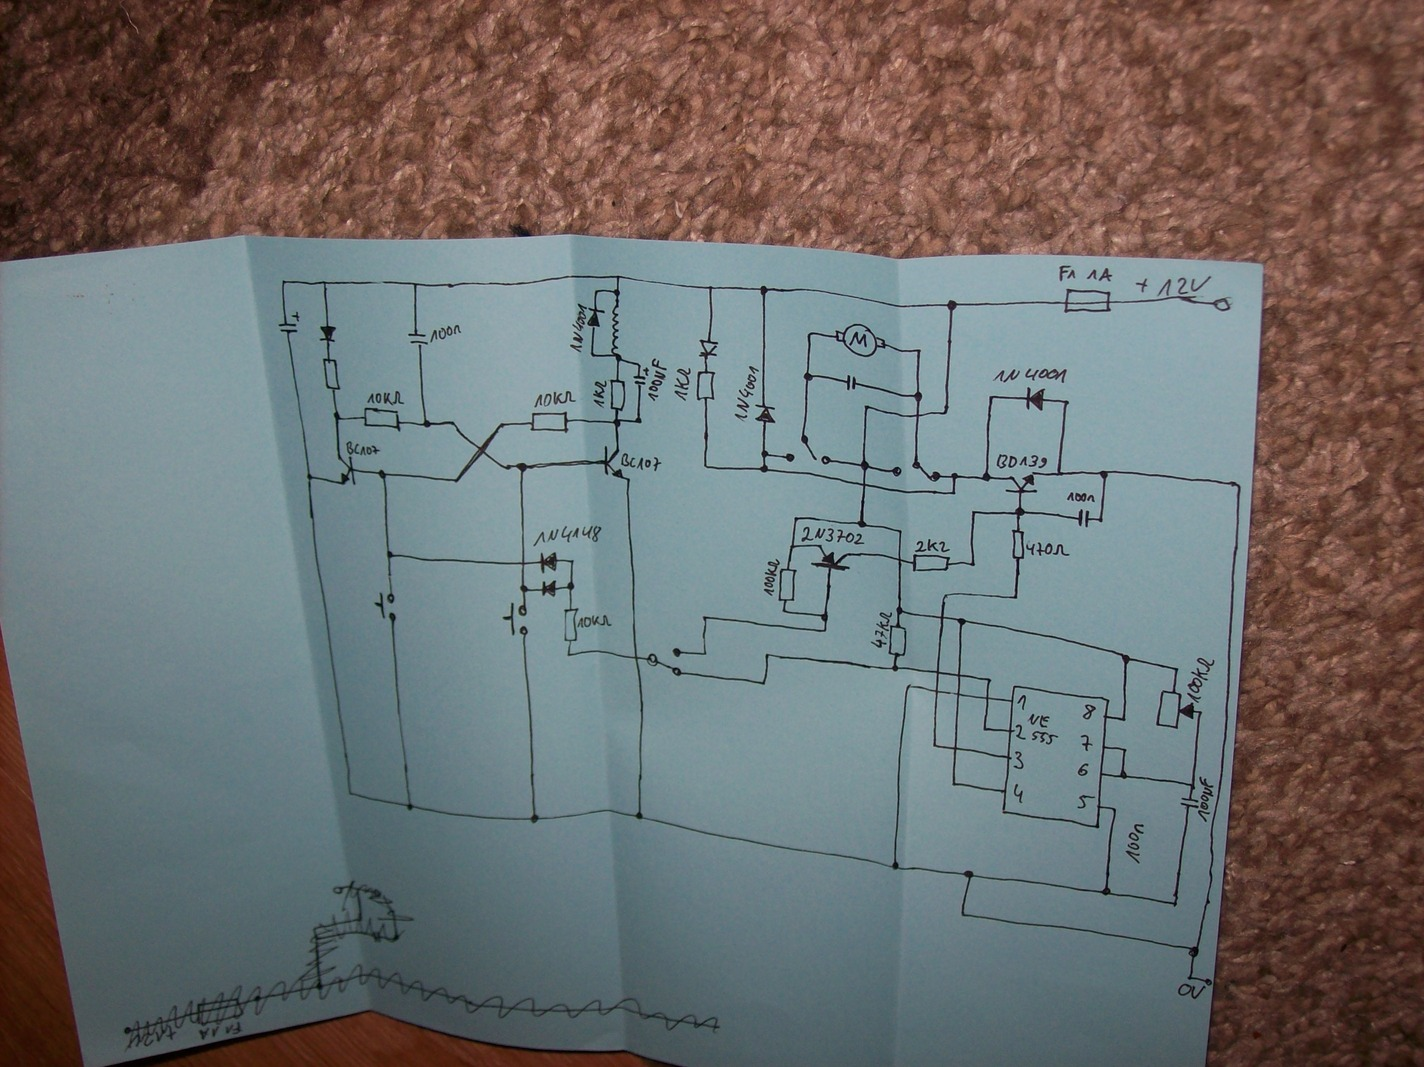capacitor.polarized: (277, 310, 303, 334), (632, 367, 650, 386)
capacitor.unpolarized: (406, 330, 429, 347), (1077, 507, 1091, 529), (1179, 795, 1199, 810), (845, 373, 858, 392)
crossover: (474, 442, 491, 457), (950, 742, 962, 755), (931, 685, 943, 697), (912, 410, 925, 421), (953, 688, 965, 700), (936, 611, 948, 622), (894, 554, 906, 565), (932, 666, 943, 677), (981, 693, 993, 704), (953, 670, 965, 680), (518, 559, 528, 568), (860, 480, 869, 490), (632, 655, 641, 664)
diode: (1024, 386, 1048, 412), (538, 550, 559, 575), (753, 403, 778, 425), (697, 336, 720, 358), (586, 306, 606, 328), (318, 324, 338, 344), (541, 578, 558, 599)
fuse: (1061, 287, 1113, 315)
inductor: (609, 298, 622, 353)
integrated_cricuit.ne555: (1000, 684, 1110, 827)
junction: (801, 370, 816, 384), (1186, 944, 1200, 959), (912, 389, 925, 403), (944, 298, 959, 312), (758, 282, 771, 297), (1013, 505, 1027, 518), (376, 468, 390, 481), (1097, 468, 1111, 480), (565, 579, 577, 592), (529, 813, 541, 825), (421, 418, 434, 430), (331, 411, 343, 424), (1120, 652, 1133, 665), (515, 462, 529, 473), (633, 810, 645, 822), (956, 615, 968, 627), (859, 460, 871, 472), (611, 417, 623, 428), (1100, 887, 1113, 898), (962, 869, 975, 880), (1118, 769, 1129, 781), (611, 353, 624, 363), (855, 519, 868, 529), (384, 549, 395, 560), (819, 611, 830, 622), (758, 463, 770, 474), (1170, 898, 1181, 909), (890, 861, 901, 872), (904, 681, 915, 693), (519, 584, 531, 594), (860, 402, 873, 412), (1009, 592, 1022, 602), (981, 471, 992, 483), (497, 420, 508, 432), (501, 462, 511, 473), (940, 407, 951, 417), (1062, 397, 1072, 408), (410, 280, 421, 290), (940, 591, 951, 601), (1054, 468, 1065, 479), (633, 416, 644, 426), (890, 664, 902, 672), (304, 472, 314, 482), (449, 419, 459, 429), (986, 392, 996, 402), (279, 277, 289, 287), (895, 605, 905, 615), (968, 559, 978, 569), (950, 472, 960, 482), (701, 462, 711, 472), (949, 779, 959, 789), (896, 526, 906, 536), (1096, 514, 1106, 525), (345, 789, 356, 798), (760, 449, 771, 458), (611, 288, 622, 297), (404, 802, 415, 811), (452, 476, 460, 486), (914, 346, 924, 355), (806, 330, 816, 338), (320, 278, 331, 287), (762, 651, 772, 660), (758, 677, 767, 687), (1235, 480, 1245, 489), (949, 488, 959, 497), (1110, 805, 1120, 814), (959, 909, 968, 919), (981, 724, 990, 734), (1188, 781, 1197, 791), (1120, 714, 1129, 723), (930, 741, 939, 750), (791, 514, 800, 523), (788, 541, 797, 550), (985, 675, 994, 684), (634, 360, 643, 369), (1120, 746, 1130, 754), (1171, 665, 1181, 672), (568, 557, 576, 566), (707, 284, 715, 293), (701, 614, 710, 622), (969, 509, 978, 517), (592, 288, 601, 296), (565, 651, 573, 659), (780, 607, 788, 615), (821, 628, 829, 635), (589, 351, 597, 359), (614, 273, 622, 281), (700, 650, 709, 657), (1186, 974, 1194, 981)
motor: (834, 322, 888, 359)
resistor: (362, 406, 403, 433), (529, 410, 570, 435), (910, 553, 952, 573), (694, 369, 718, 402), (322, 356, 342, 392), (778, 567, 798, 603), (888, 623, 908, 658), (609, 377, 627, 412), (562, 607, 580, 643), (1009, 527, 1027, 562)
resistor.adjustable: (1153, 689, 1203, 730)
switch: (784, 433, 832, 466), (890, 460, 942, 483), (646, 646, 685, 677), (502, 601, 530, 638), (373, 590, 400, 624)
terminal: (1211, 295, 1232, 313), (1203, 976, 1213, 987)
text: (1134, 273, 1213, 297), (532, 525, 602, 548), (733, 365, 760, 423), (1185, 656, 1217, 703), (992, 367, 1069, 386), (800, 525, 866, 546), (1124, 822, 1147, 865), (1026, 713, 1058, 745), (568, 301, 587, 353), (620, 451, 663, 473), (646, 358, 668, 402), (1025, 538, 1072, 558), (995, 452, 1048, 470), (1197, 774, 1214, 823), (533, 389, 578, 408), (871, 611, 892, 649), (429, 322, 463, 344), (366, 389, 406, 407), (762, 558, 780, 597), (673, 367, 692, 402), (345, 439, 382, 457), (914, 537, 952, 553), (577, 614, 613, 630), (1086, 266, 1114, 285), (592, 379, 608, 410), (1178, 982, 1206, 1000), (1065, 490, 1096, 505), (1057, 263, 1077, 284), (1076, 794, 1096, 810), (1012, 749, 1026, 771), (1011, 782, 1025, 804), (1081, 703, 1097, 721), (1079, 733, 1093, 752), (1014, 723, 1026, 741), (1016, 694, 1029, 712), (1076, 762, 1090, 777)
transistor: (810, 544, 851, 572), (602, 444, 631, 482), (1005, 471, 1040, 495), (337, 455, 359, 488)
